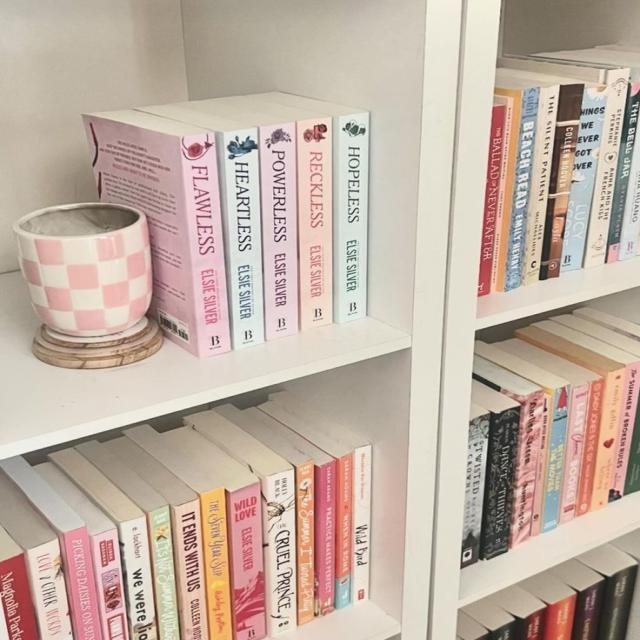book: (181, 134, 230, 358), (216, 128, 264, 350), (561, 87, 609, 272), (541, 84, 586, 281), (584, 70, 628, 266), (261, 124, 298, 339), (333, 112, 370, 322), (297, 118, 331, 331), (524, 84, 559, 286), (477, 95, 512, 296), (505, 88, 537, 292), (478, 406, 520, 559), (605, 85, 639, 262), (229, 482, 265, 639), (264, 468, 296, 637), (478, 104, 506, 296), (201, 488, 234, 640), (592, 366, 626, 511), (173, 499, 208, 639), (24, 537, 72, 639), (120, 515, 159, 640), (512, 390, 542, 546), (541, 384, 572, 533), (147, 506, 181, 640), (461, 409, 490, 566), (64, 526, 102, 640), (609, 361, 639, 501), (94, 529, 129, 640), (291, 460, 314, 625), (561, 384, 588, 524), (578, 379, 604, 515), (314, 456, 336, 616), (0, 554, 39, 639), (350, 446, 370, 603), (531, 397, 552, 538), (334, 453, 352, 609)
